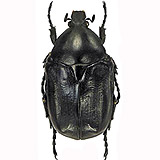Protaetia_funebris_funebris: (22, 1, 130, 160)
